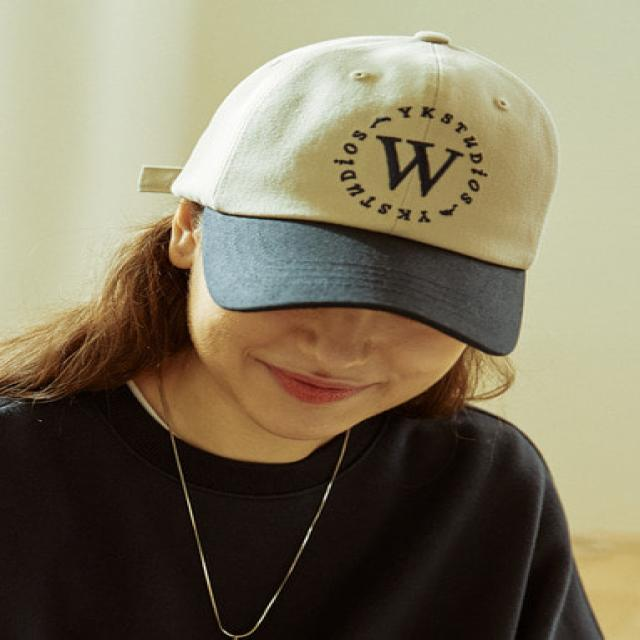no_helmet: (129, 24, 569, 363)
